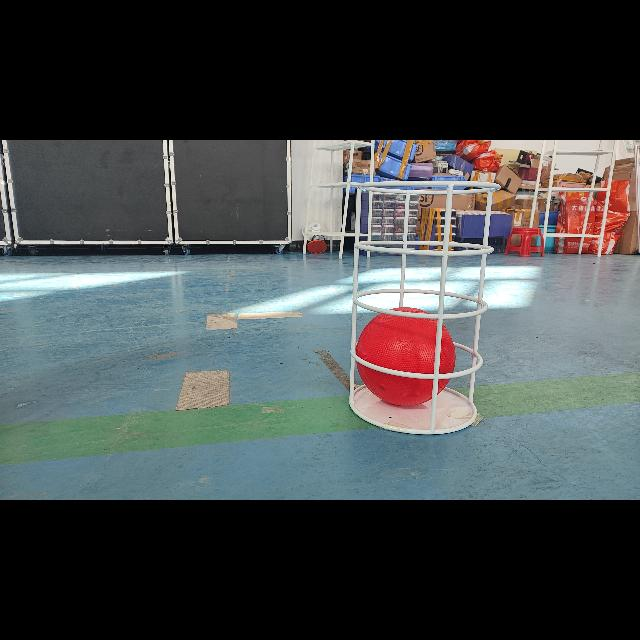R: (355, 308, 455, 407)
S: (343, 173, 499, 441)
